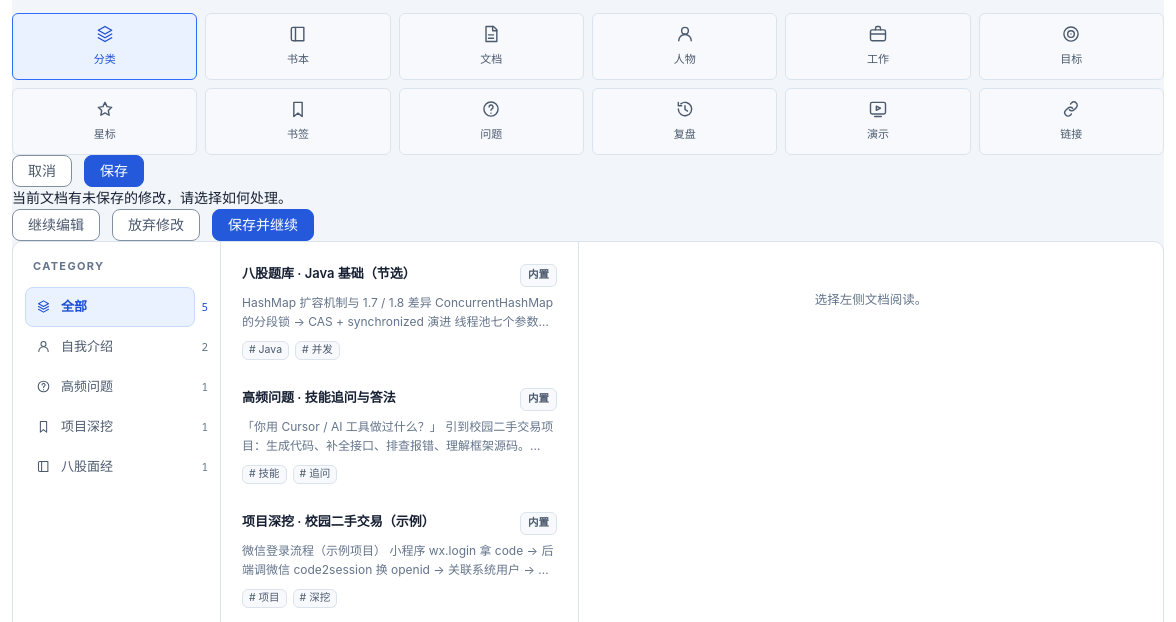
Test: LibraryView › 分类筛选生效
(page scrolled)
Click the button with class "chip" showing "自我介绍": point(110, 346) [25, 326, 195, 366]
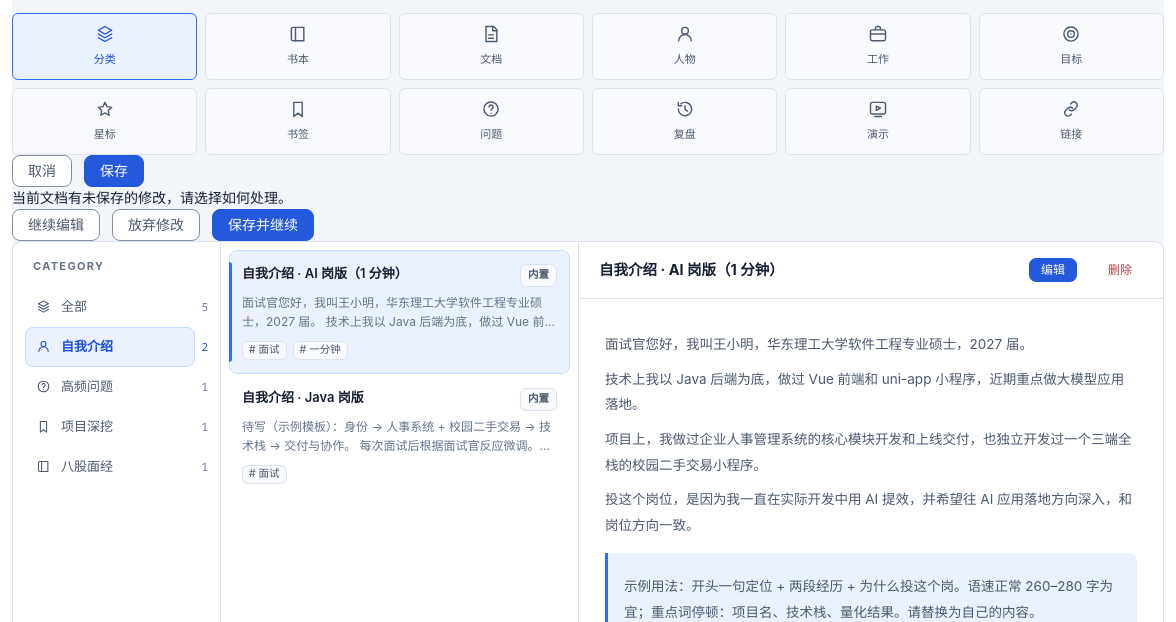
Result: the heading with class "reader-title" shows "自我介绍" at [599, 261, 784, 278]
